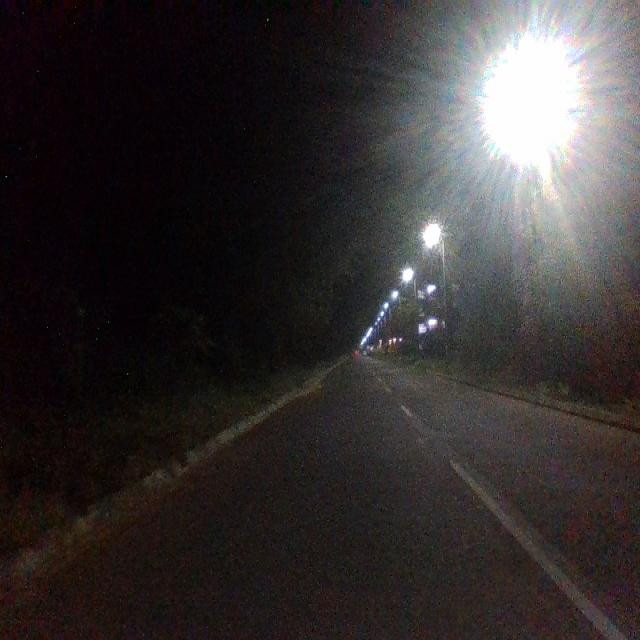lane: (1, 359, 607, 640)
